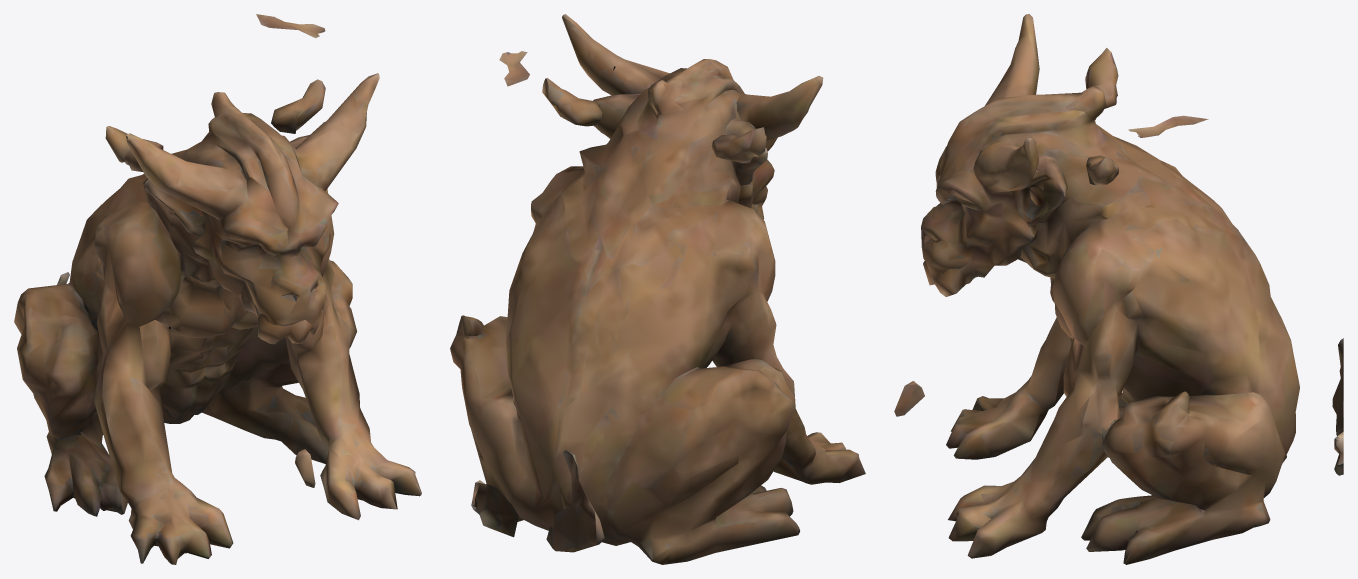
Rendered from ornate-sandstone-gargoyle-v001.glb.
3 renders of one model, left to right at view 1: azimuth 30°, elevation 25°; view 2: azimuth 150°, elevation 25°; view 3: azimuth 270°, elevation 25°, orthographic. The views are drawn at different scales.
Parts seen in each view (by area): view 1: ornate-sandstone-gargoyle; view 2: ornate-sandstone-gargoyle; view 3: ornate-sandstone-gargoyle.
Part boxes in pixels (left/top/right/bottom): ornate-sandstone-gargoyle: left=14, top=14, right=421, bottom=564; ornate-sandstone-gargoyle: left=450, top=14, right=865, bottom=564; ornate-sandstone-gargoyle: left=894, top=14, right=1343, bottom=564.
Bounding box in the file's own units: 0.6478 × 0.7812 × 0.7589.
Materials: 1 (1 with a texture image).
